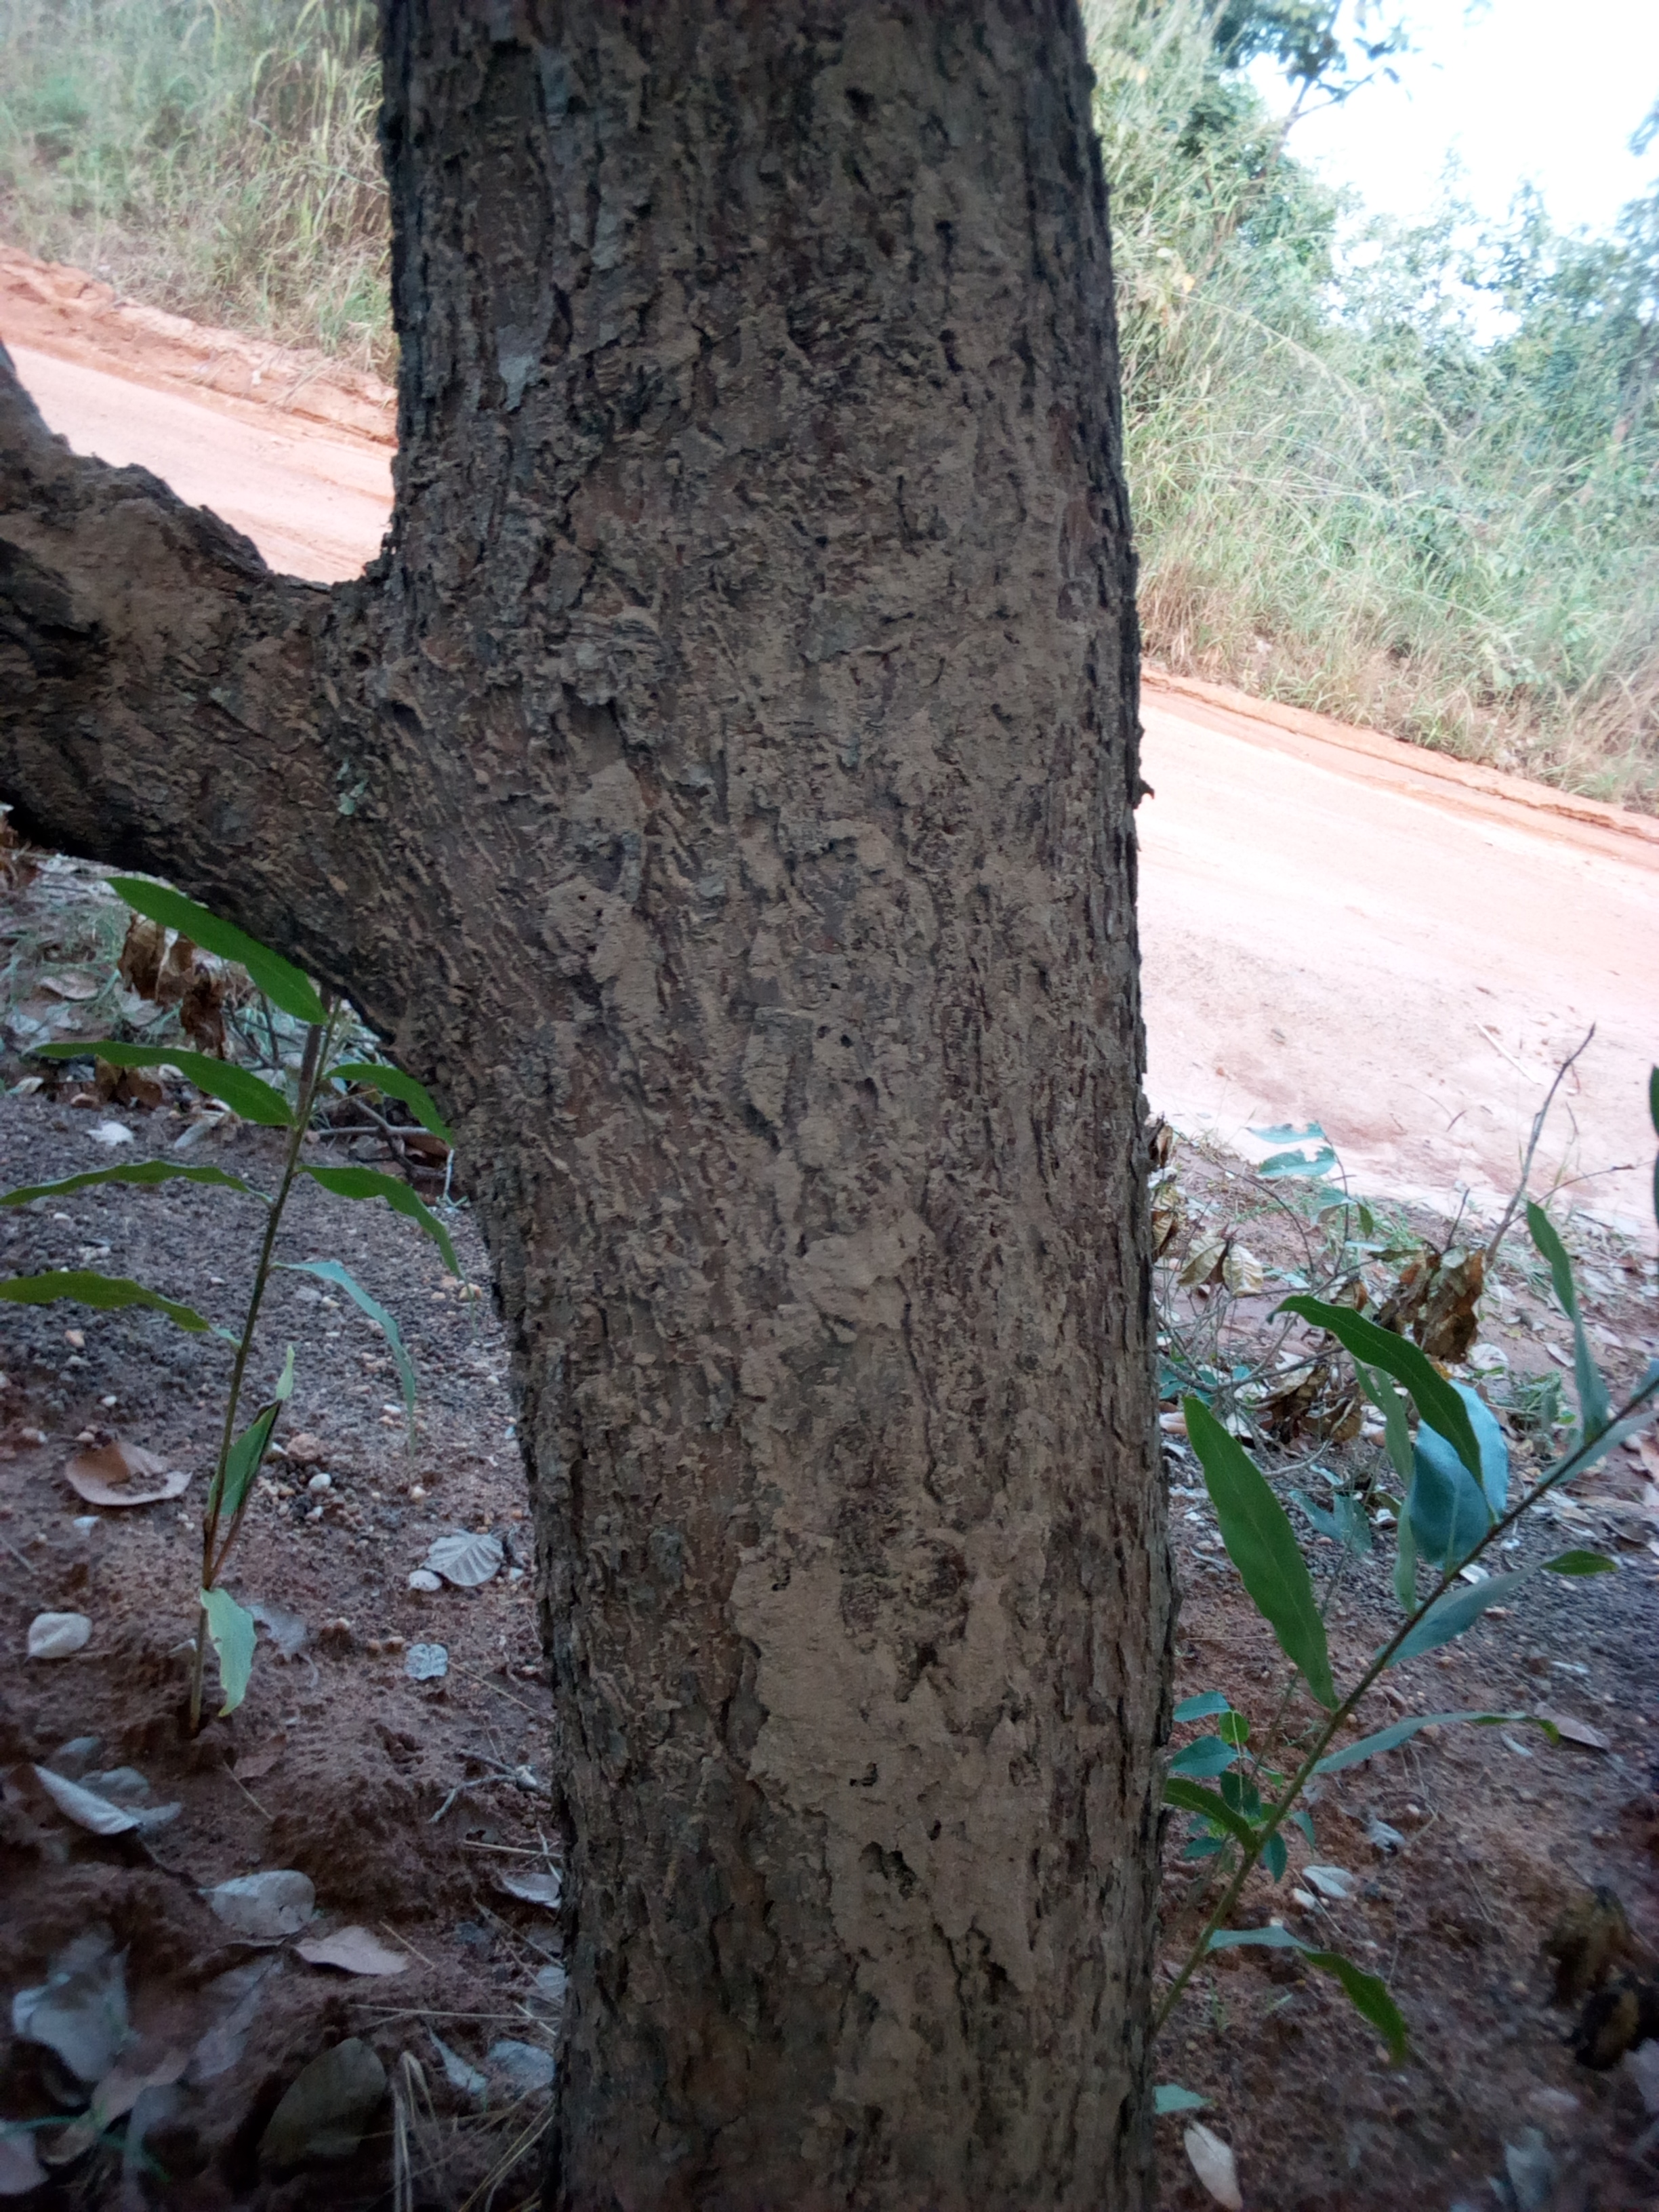Termites: (610, 268, 1159, 2184)
